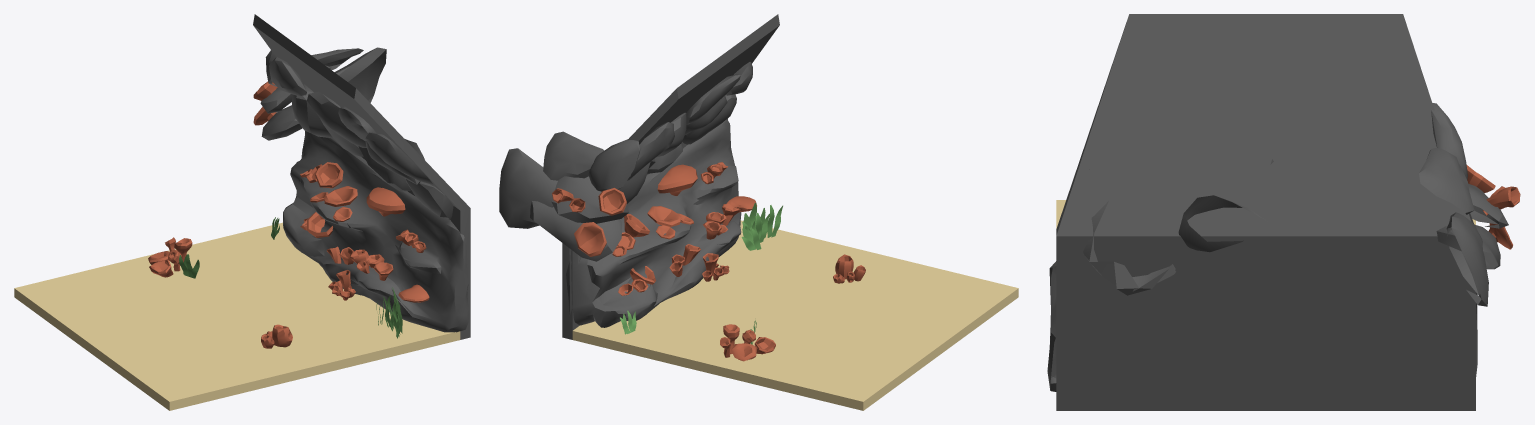
The model's file is SM_Tile_06.fbx.
The picture shows the model from 3 angles, left to right: view 1: azimuth 30°, elevation 25°; view 2: azimuth 150°, elevation 25°; view 3: azimuth 270°, elevation 25°; orthographic projection. The views are drawn at different scales.
Visible parts, largest first — view 1: SM_Tile_06; view 2: SM_Tile_06; view 3: SM_Tile_06.
Boxes of the visible parts, box(x1,y1,x2,y2) form: SM_Tile_06: box(14, 14, 470, 410); SM_Tile_06: box(499, 14, 1018, 410); SM_Tile_06: box(1047, 14, 1520, 410).
Bounding box in the file's own units: 3914 × 2558 × 3233.
